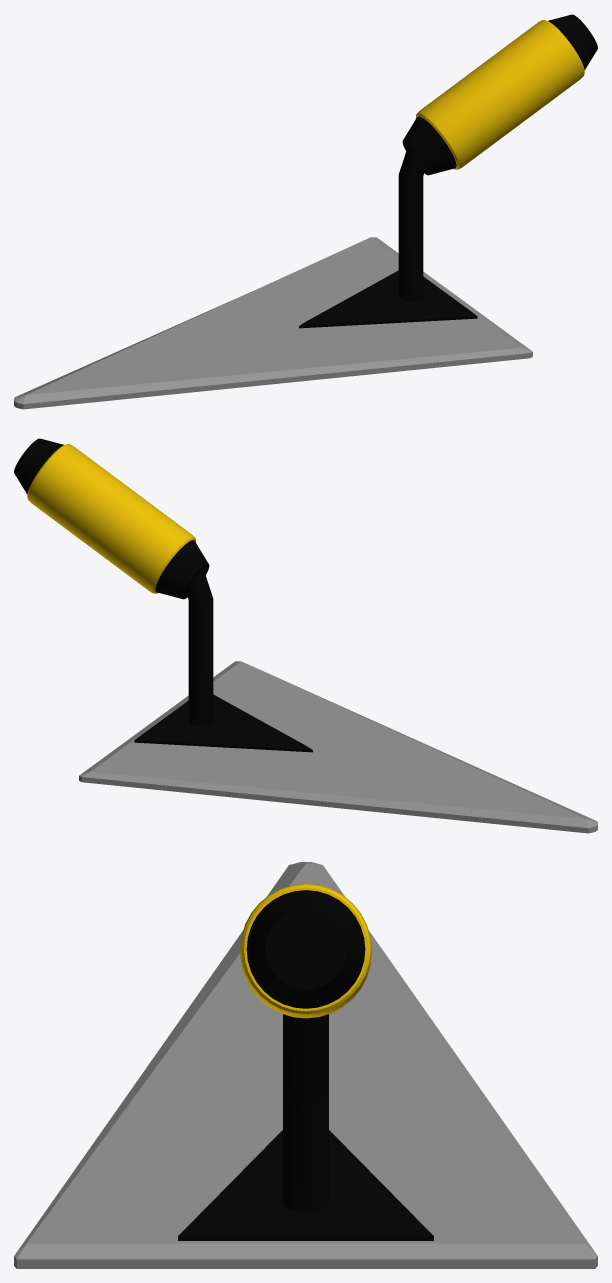
The model's file is IDK.fbx.
3 views of the same model, one above another, from view 1: azimuth 30°, elevation 25°; view 2: azimuth 150°, elevation 25°; view 3: azimuth 270°, elevation 25° (orthographic). The views are drawn at different scales.
Parts seen in each view (by area): view 1: Cylinder.001; view 2: Cylinder.001; view 3: Cylinder.001.
Boxes of the visible parts, <box> form: Cylinder.001: <box>14,14,597,409</box>; Cylinder.001: <box>14,438,597,833</box>; Cylinder.001: <box>14,862,597,1268</box>.
Size of the model in its own units: 962 by 404 by 455.
